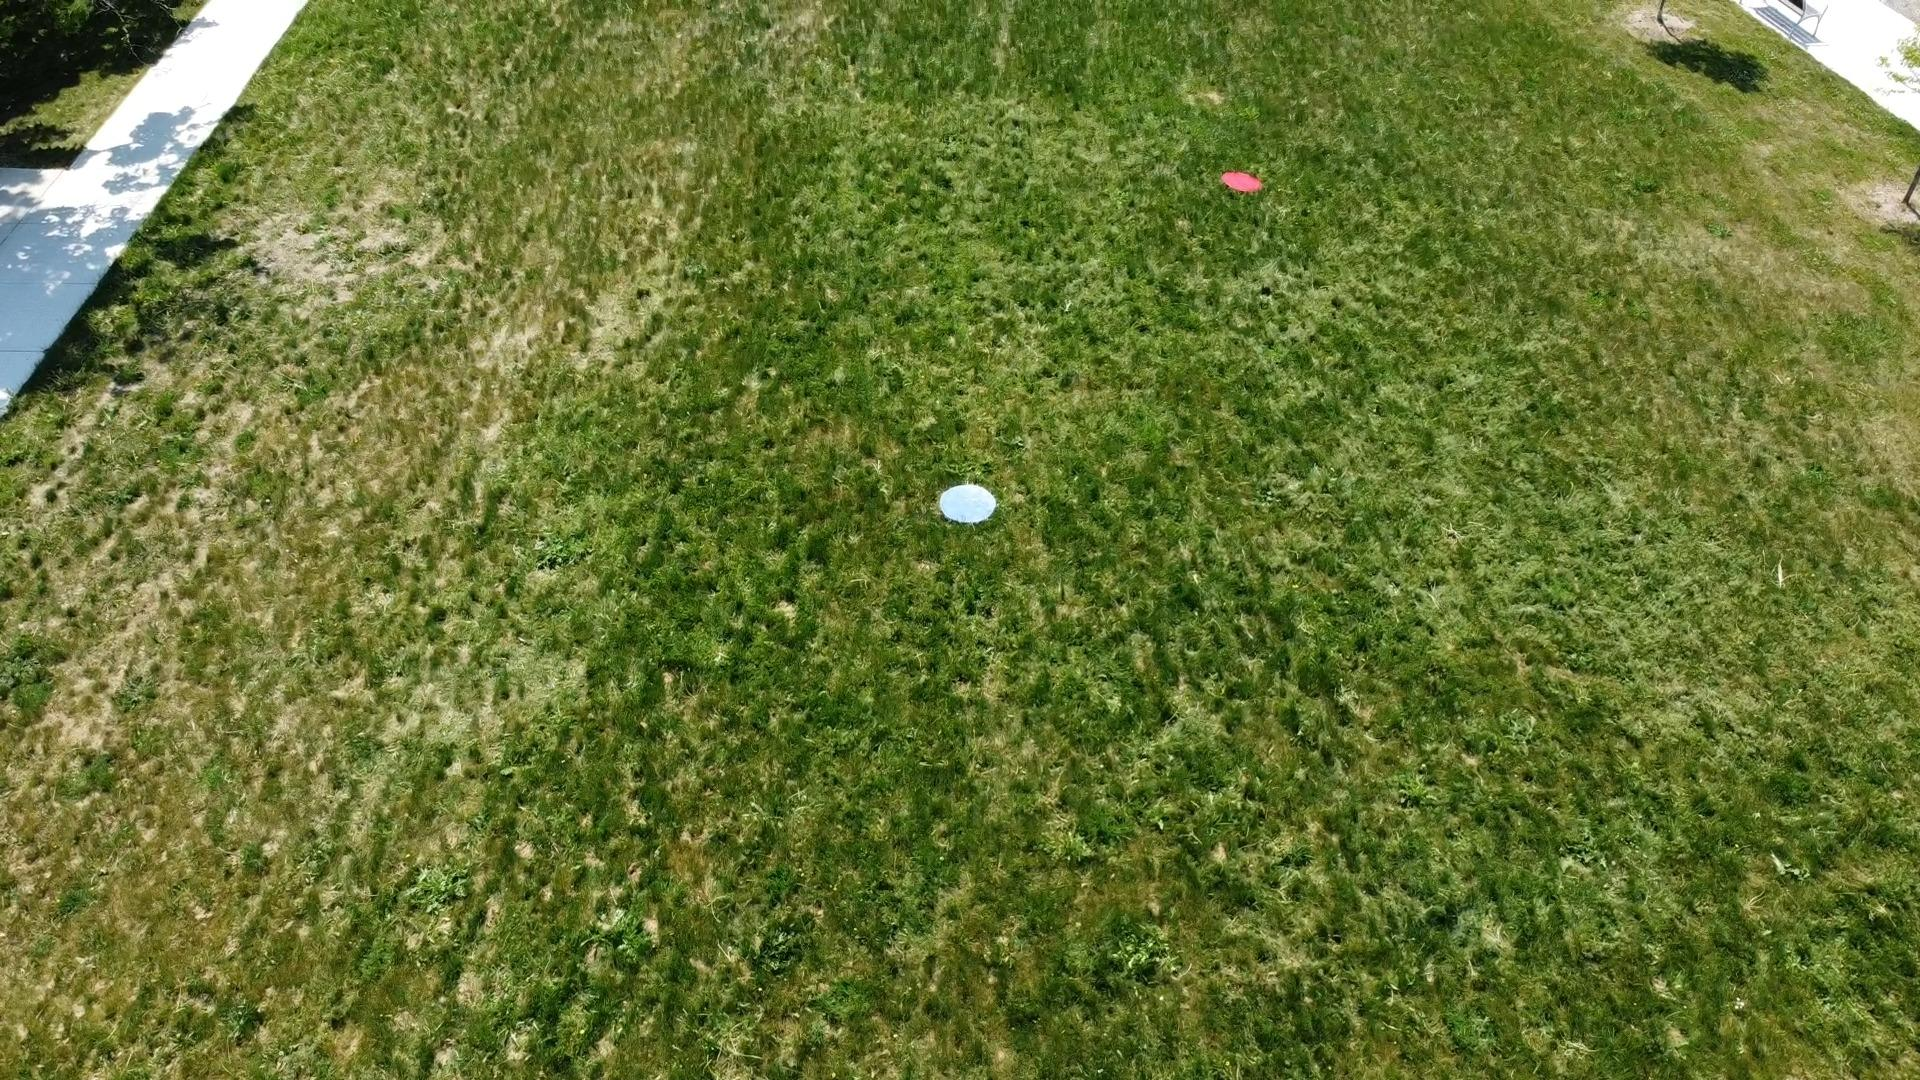Blue: (938, 483, 998, 525)
Red: (1218, 169, 1266, 194)
